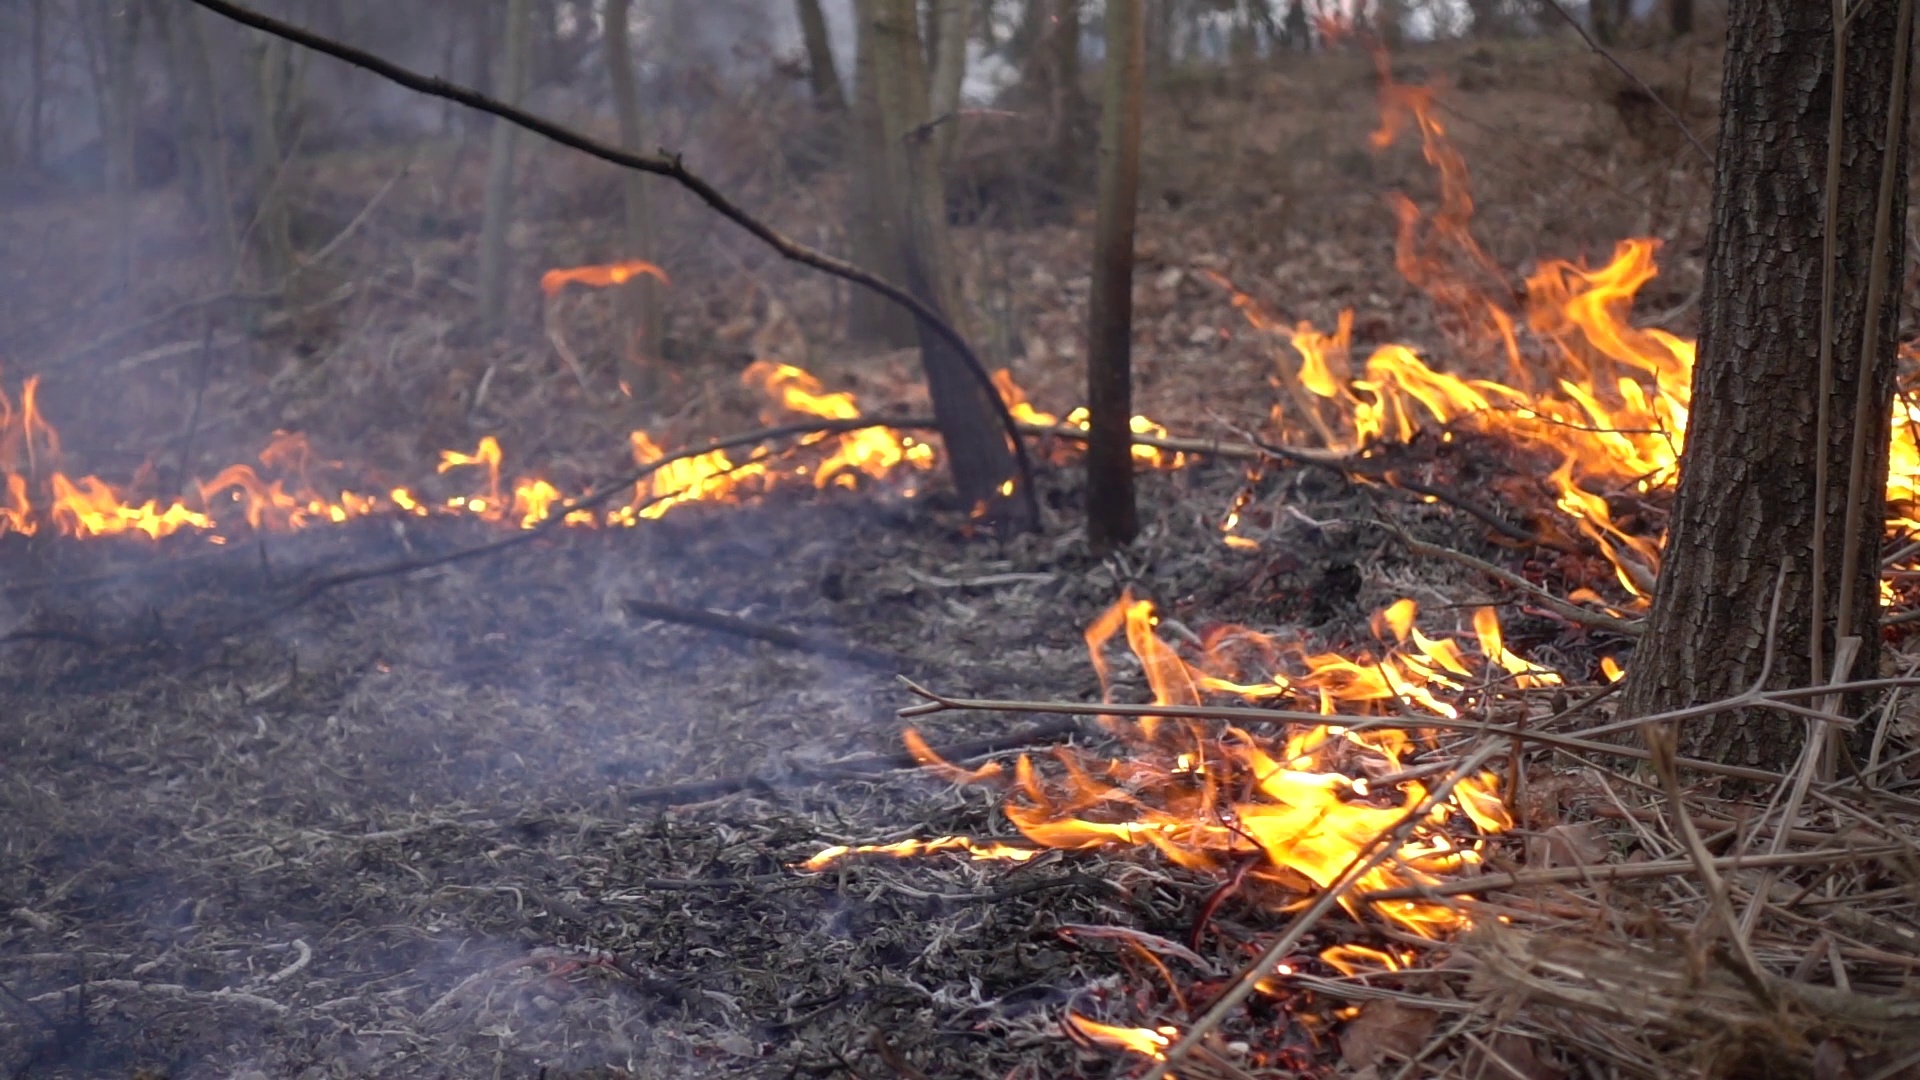fire: (957, 589, 1551, 984), (1296, 243, 1693, 578), (1, 465, 375, 542), (754, 357, 934, 487), (426, 436, 558, 531), (618, 425, 735, 520), (1884, 392, 1917, 506), (1130, 413, 1160, 469)
